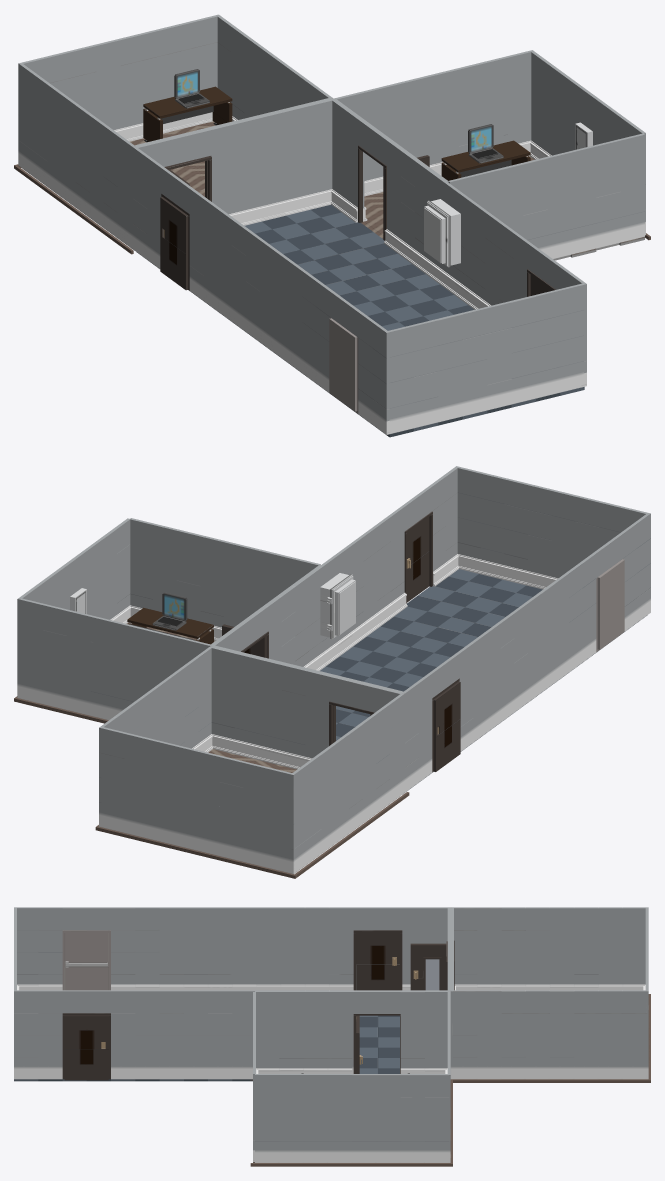
The model's file is oficina principalPrimerNivel.fbx.
The picture shows the model from 3 angles, top to bottom: view 1: azimuth 30°, elevation 25°; view 2: azimuth 150°, elevation 25°; view 3: azimuth 270°, elevation 25°; orthographic projection. The views are drawn at different scales.
Visible parts, largest first — view 1: Caja_603, Caja_203, Caja_425, Caja_602, Caja_792, Caja_835, Caja_204, Caja_272, Caja_765, Caja_192, Caja_194, Caja_258 (+102 smaller); view 2: Caja_603, Caja_425, Caja_604, Caja_602, Caja_832, Caja_836, Caja_194, Caja_765, Caja_779, Caja_191, Caja_601, Caja_782 (+105 smaller); view 3: Caja_604, Caja_603, Caja_425, _2, Caja_170, Caja_171, Caja_186, Caja_199, Caja_344, Caja_356, Caja_384, Caja_387 (+199 smaller).
Part boxes in pixels (box(x1,y1,x2,y2)): Caja_603: box(160, 194, 189, 290); Caja_203: box(143, 86, 232, 142); Caja_425: box(329, 317, 358, 413); Caja_602: box(424, 199, 460, 267); Caja_792: box(441, 140, 530, 180); Caja_835: box(468, 124, 503, 163); Caja_204: box(174, 69, 209, 108); Caja_272: box(185, 129, 211, 161); Caja_765: box(497, 163, 523, 195); Caja_192: box(119, 33, 144, 65); Caja_194: box(70, 45, 96, 77); Caja_258: box(260, 189, 285, 221); Caja_603: box(432, 678, 460, 772); Caja_425: box(596, 558, 624, 652); Caja_604: box(404, 511, 432, 603); Caja_602: box(320, 573, 355, 639); Caja_832: box(127, 607, 213, 644); Caja_836: box(152, 592, 187, 630); Caja_194: box(219, 756, 244, 787); Caja_765: box(247, 547, 272, 578); Caja_779: box(90, 615, 115, 647); Caja_191: box(148, 738, 173, 769); Caja_601: box(480, 472, 505, 503); Caja_782: box(161, 633, 186, 664); Caja_604: box(62, 1013, 110, 1080); Caja_603: box(353, 930, 402, 990); Caja_425: box(62, 930, 110, 990); _2: box(410, 943, 446, 990); Caja_170: box(477, 990, 501, 1013); Caja_171: box(477, 907, 501, 930); Caja_186: box(574, 990, 598, 1013); Caja_199: box(574, 907, 598, 930); Caja_344: box(135, 990, 159, 1013); Caja_356: box(38, 990, 62, 1013); Caja_384: box(329, 907, 353, 930); Caja_387: box(402, 907, 426, 930).
Size of the model in its own units: 531 by 132 by 840.
1 material, 1 textured.
